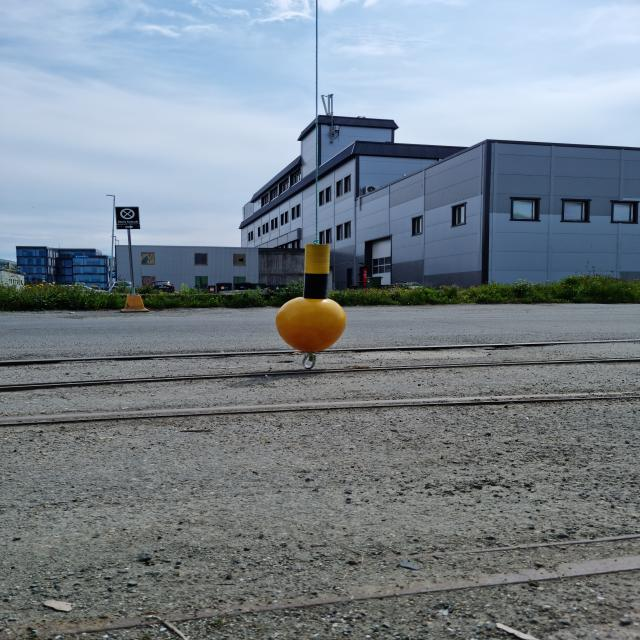west: (272, 243, 350, 353)
